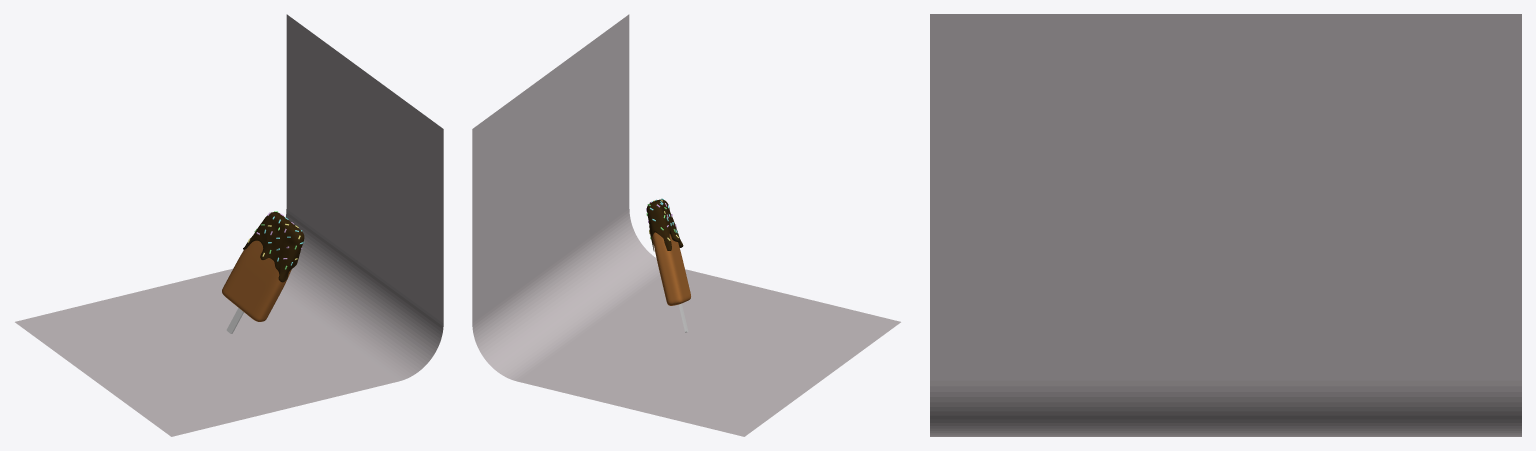
File: uploads_files_3669333_icecream.fbx
The picture shows the model from 3 angles, left to right: view 1: azimuth 30°, elevation 25°; view 2: azimuth 150°, elevation 25°; view 3: azimuth 270°, elevation 25°; orthographic projection. The views are drawn at different scales.
Parts seen in each view (by area): view 1: Plane, ice cream.001, cream.001; view 2: Plane, ice cream.001, cream.001; view 3: Plane.
Boxes of the visible parts, left/top/right/bottom form: Plane: left=15, top=14, right=443, bottom=436; ice cream.001: left=222, top=240, right=291, bottom=321; cream.001: left=243, top=212, right=304, bottom=282; Plane: left=472, top=14, right=900, bottom=436; ice cream.001: left=652, top=232, right=690, bottom=305; cream.001: left=647, top=199, right=683, bottom=251; Plane: left=930, top=14, right=1521, bottom=436.
Size of the model in its own units: 1126 by 955 by 1126.
